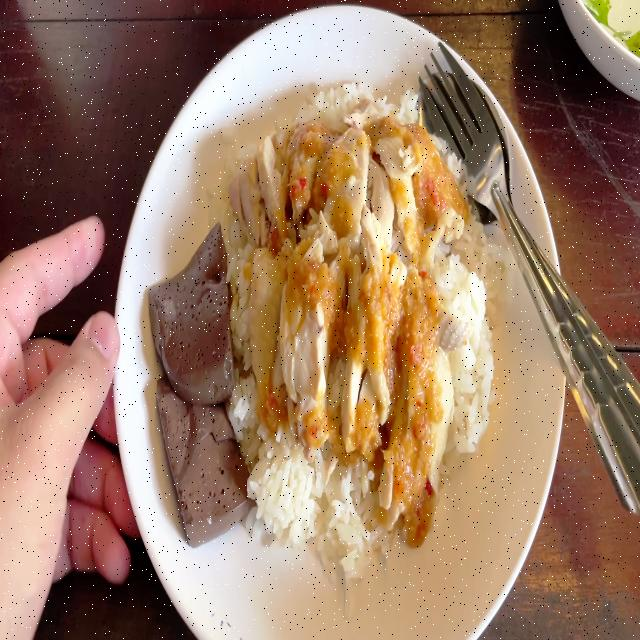boiled_chicken: (252, 139, 442, 436)
boiled_chicken_blood_jelly: (146, 220, 237, 408), (157, 355, 249, 538)
chicken_rice: (143, 76, 507, 591)
